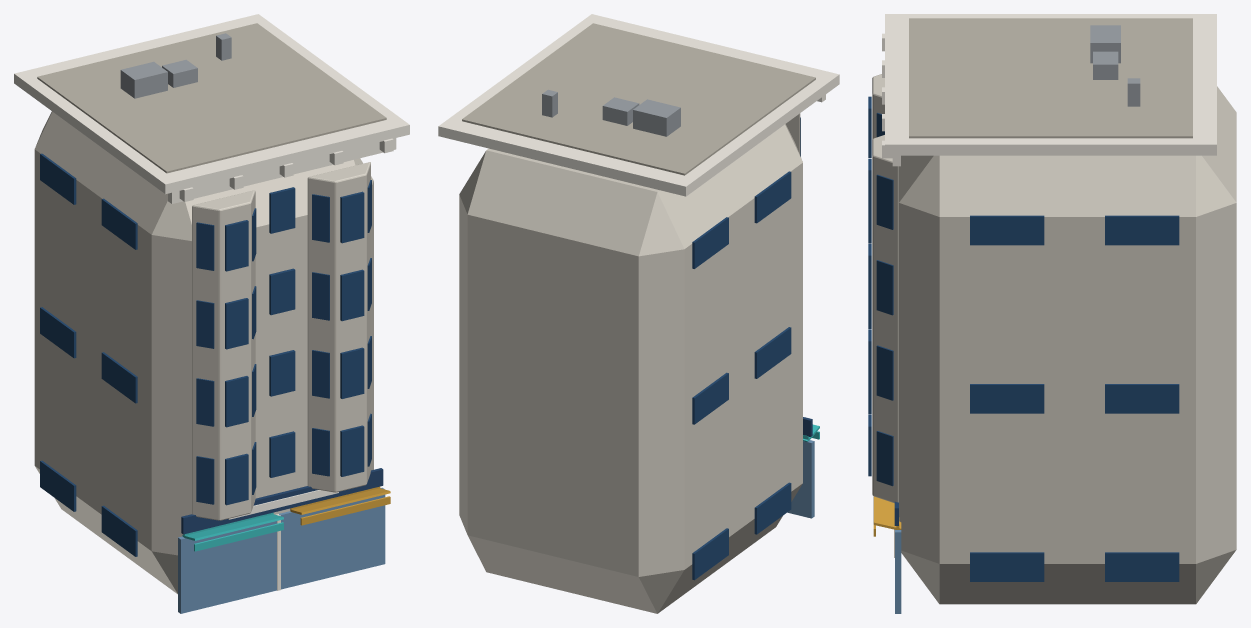
Rendered from mixed_w10_f5_bays.glb.
3 renders of one model, left to right at view 1: azimuth 30°, elevation 25°; view 2: azimuth 150°, elevation 25°; view 3: azimuth 270°, elevation 25°, orthographic. The views are drawn at different scales.
Visible parts, largest first — view 1: walls, roofslab, shopglass, bay.001, bay, corn, frieze, fascia, hvac, bw.005, bw.006, bw.007 (+29 smaller); view 2: walls, roofslab, corn, hvac, shopglass, sb.004, sb.008, sb, sb.002, sb.006, sb.010, hvac2; view 3: walls, roofslab, corn, bay.001, sb.009, sb.011, sb.001, sb.003, sb.005, sb.007, bwa.009, bwa.011 (+7 smaller).
Part boxes in pixels (x1,y1,x2,y2): walls: [34, 111, 373, 594]; roofslab: [37, 23, 386, 173]; shopglass: [178, 487, 385, 613]; bay.001: [307, 162, 370, 492]; bay: [192, 190, 255, 520]; corn: [14, 14, 409, 194]; frieze: [168, 138, 396, 203]; fascia: [181, 468, 383, 534]; hvac: [120, 61, 167, 98]; bw.005: [340, 347, 364, 398]; bw.006: [340, 269, 364, 321]; bw.007: [340, 191, 364, 243]; walls: [459, 124, 802, 613]; roofslab: [462, 23, 815, 175]; corn: [438, 14, 839, 196]; hvac: [633, 99, 680, 136]; shopglass: [787, 440, 814, 518]; sb.004: [754, 327, 791, 378]; sb.008: [754, 171, 791, 223]; sb: [754, 482, 791, 534]; sb.002: [692, 528, 728, 580]; sb.006: [692, 372, 728, 424]; sb.010: [692, 217, 728, 268]; hvac2: [602, 97, 639, 125]; walls: [899, 86, 1236, 604]; roofslab: [909, 18, 1192, 138]; corn: [885, 14, 1216, 155]; bay.001: [872, 135, 898, 502]; sb.009: [970, 215, 1044, 245]; sb.011: [1105, 215, 1179, 245]; sb.001: [970, 552, 1044, 581]; sb.003: [1105, 552, 1179, 581]; sb.005: [970, 384, 1044, 413]; sb.007: [1105, 384, 1179, 413]; bwa.009: [876, 431, 893, 486]; bwa.011: [876, 345, 893, 400].
Size of the model in its own units: 11 by 19.8 by 13.09.
